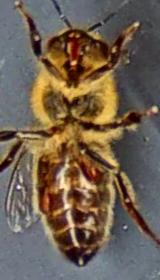varroa_mite: (70, 145, 111, 195), (32, 176, 55, 227)
